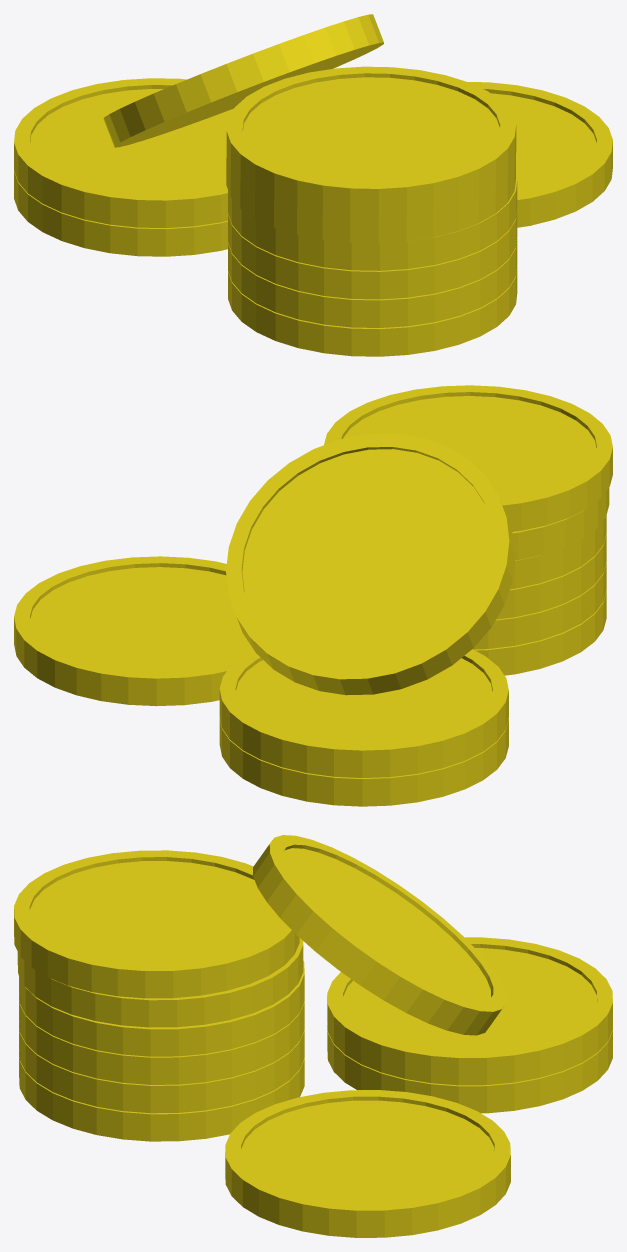
The model's file is Coins.fbx.
3 views of the same model, one above another, from view 1: azimuth 30°, elevation 25°; view 2: azimuth 150°, elevation 25°; view 3: azimuth 270°, elevation 25° (orthographic).
Visible parts, largest first — view 1: Coins; view 2: Coins; view 3: Coins.
Part boxes in pixels (left/top/right/bottom): Coins: left=14, top=14, right=612, bottom=356; Coins: left=14, top=385, right=612, bottom=806; Coins: left=14, top=835, right=612, bottom=1237.
Bounding box in the file's own units: 83.07 × 35.01 × 85.81.
